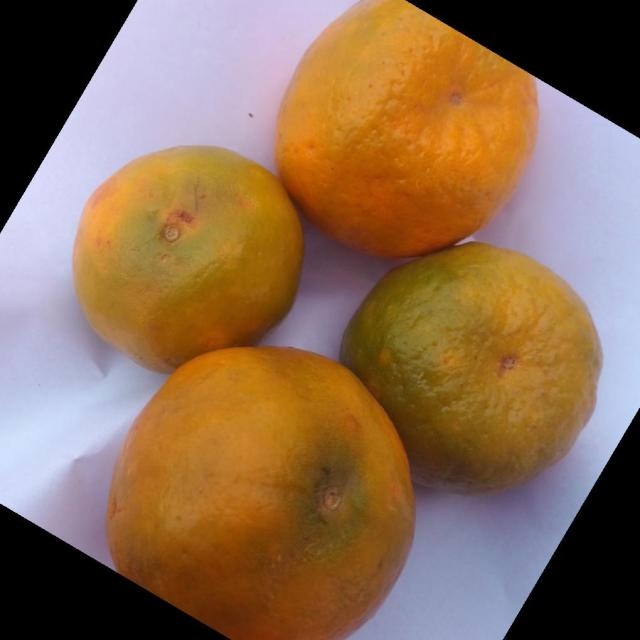agrume: (105, 344, 416, 638), (273, 0, 540, 259), (338, 239, 603, 493), (71, 142, 304, 374)
